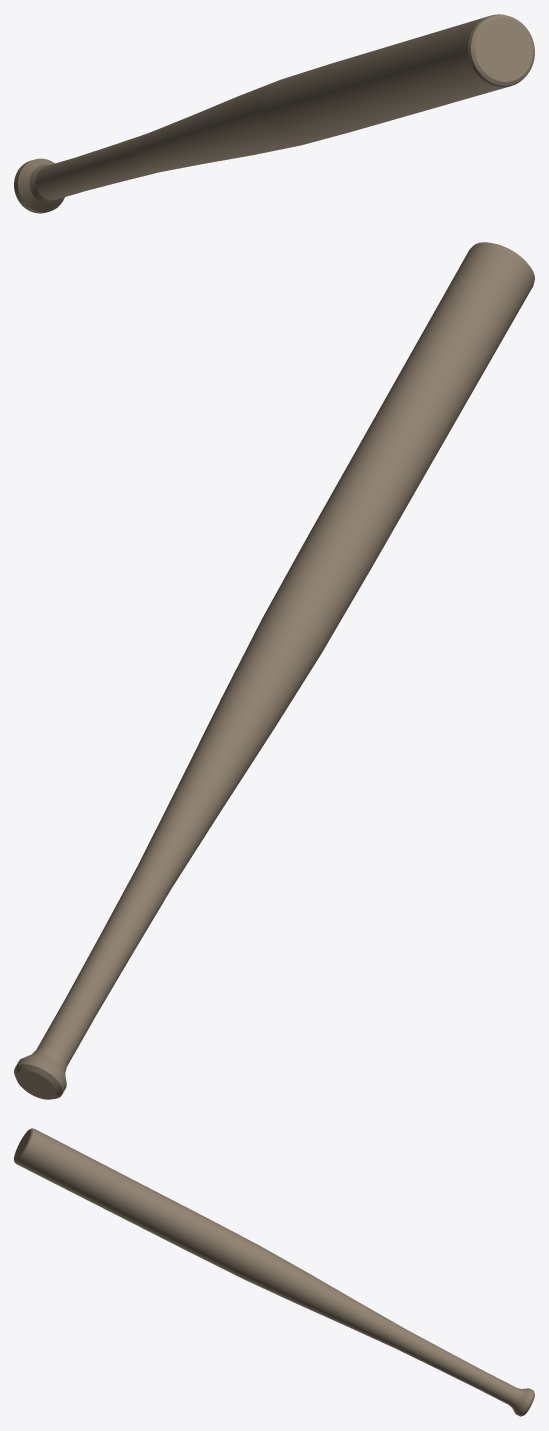
3 views of the same model, one above another, from view 1: azimuth 30°, elevation 25°; view 2: azimuth 150°, elevation 25°; view 3: azimuth 270°, elevation 25° (orthographic). The views are drawn at different scales.
Visible parts, largest first — view 1: bat; view 2: bat; view 3: bat.
Part boxes in pixels (x1,y1,x2,y2): bat: (14,14,534,213); bat: (14,242,534,1099); bat: (14,1128,534,1416).
Size of the model in its own units: 0.065 by 0.5131 by 0.8507.
